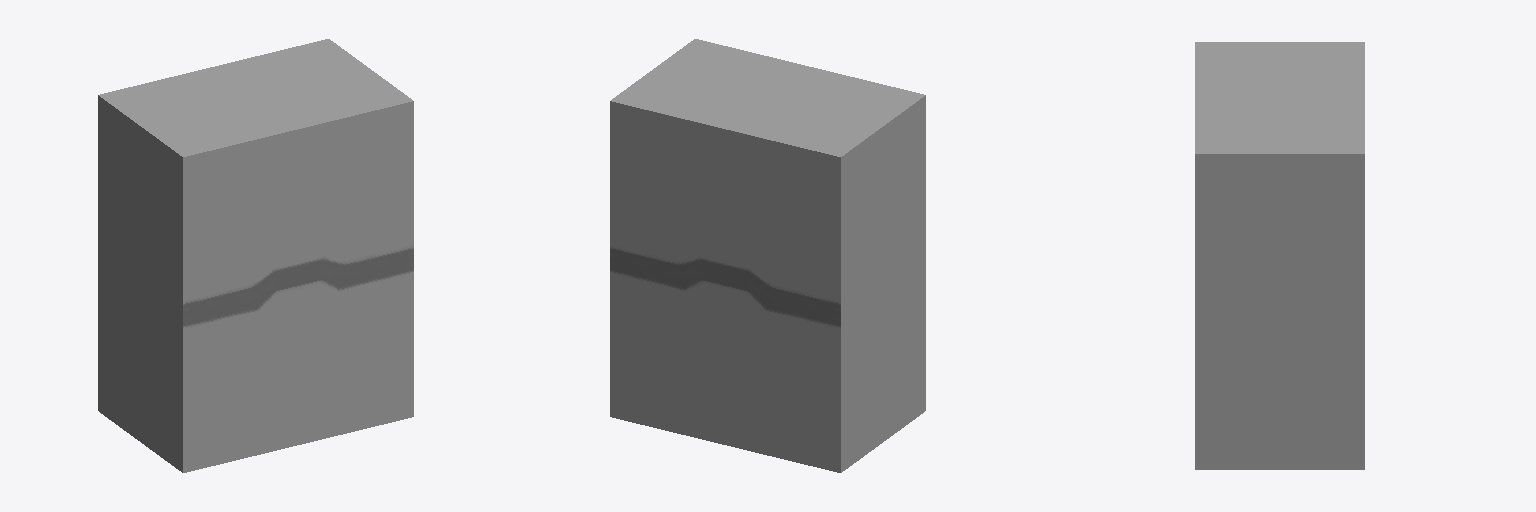
3 views of the same model, side by side, from view 1: azimuth 30°, elevation 25°; view 2: azimuth 150°, elevation 25°; view 3: azimuth 270°, elevation 25° (orthographic).
Visible parts, largest first — view 1: Cube; view 2: Cube; view 3: Cube.
Boxes of the visible parts, <box> form: Cube: <box>98,39,413,472</box>; Cube: <box>610,39,925,472</box>; Cube: <box>1195,42,1364,469</box>.
Bounding box in the file's own units: 2 × 2.61 × 1.28.
Materials: 1 (1 with a texture image).